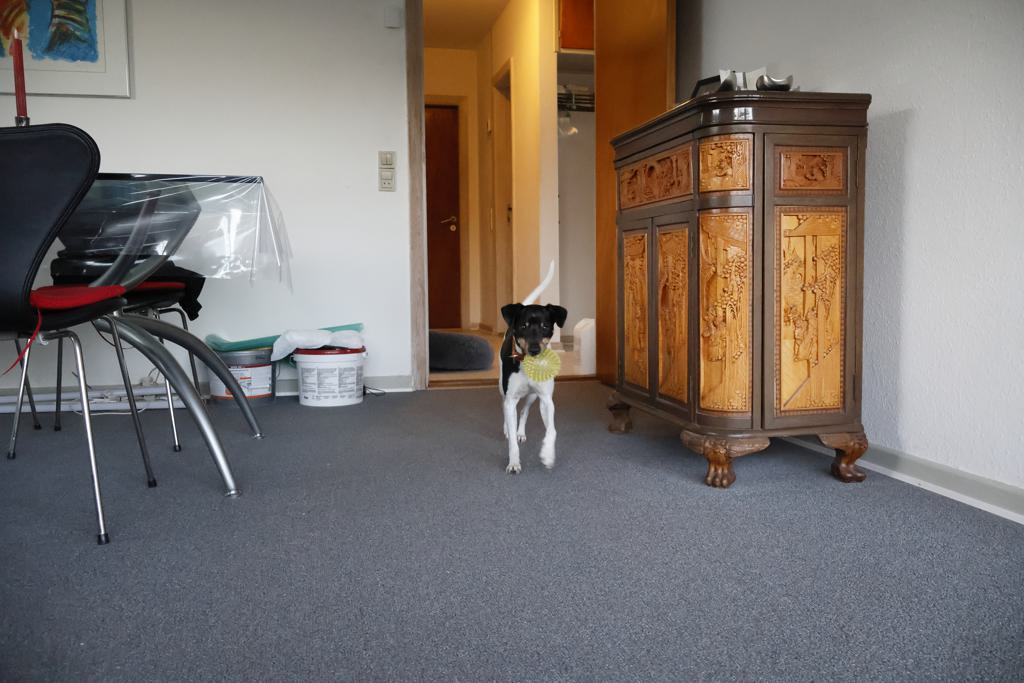Dog: (492, 254, 576, 481)
